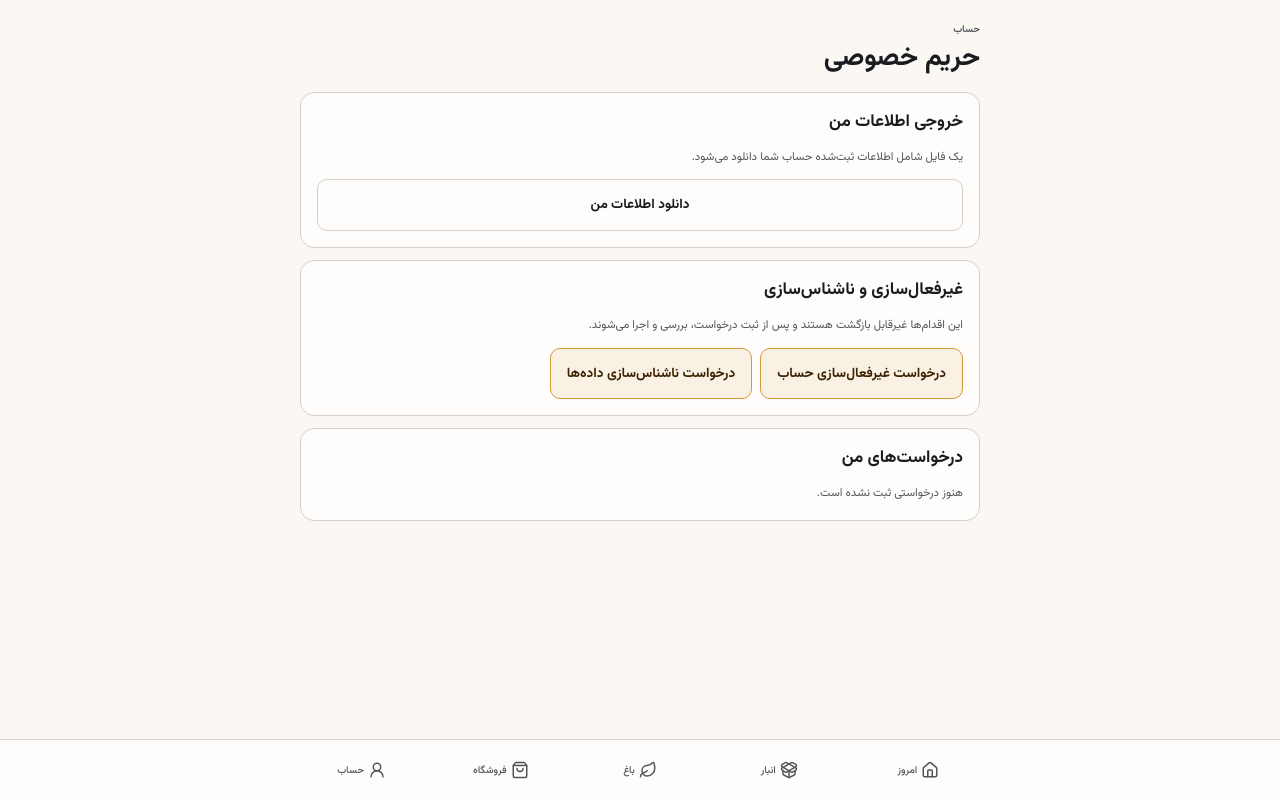
Test case: PrivacyCenter › shows an empty state, then a real backend-persisted request after submitting one
The image size is (1280, 800).
Check: the text "هنوز درخواستی ثبت نشده است." is shown, box [817,484,963,502]
Click the button "درخواست غیرفعال‌سازی حساب" at (862, 373), box [760,348,963,399]
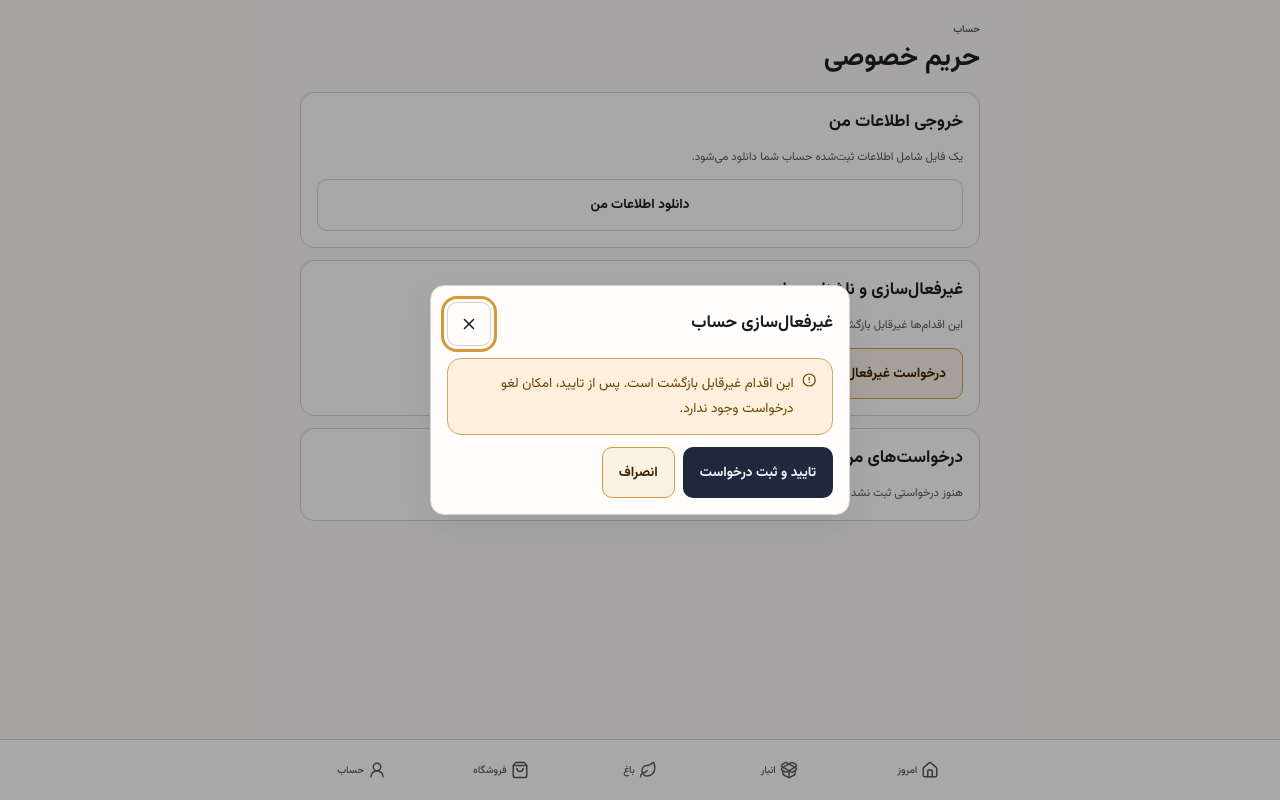
Click the button "تایید و ثبت درخواست" at (758, 473), box [683,447,833,498]
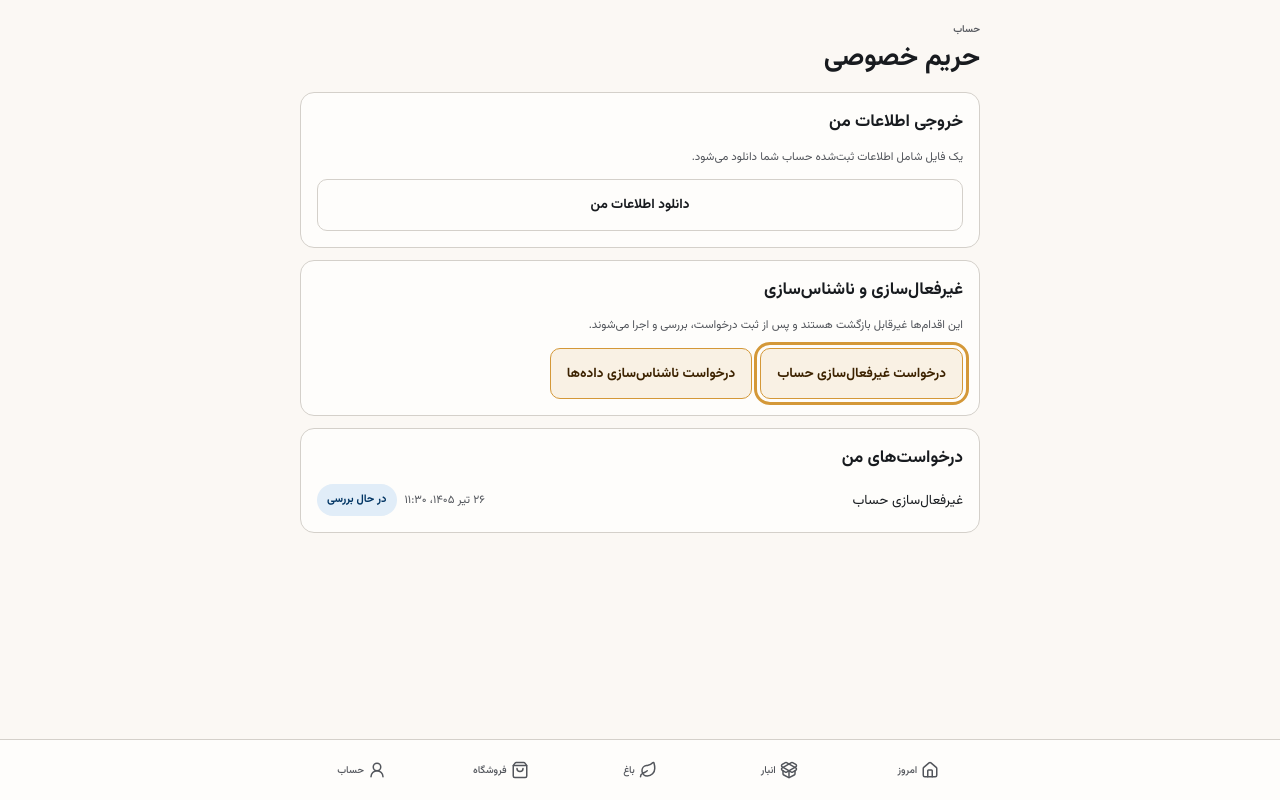
Check: the text "غیرفعال‌سازی حساب" is shown, box [852,488,963,513]
Check: the text "در حال بررسی" is shown, box [317,484,396,516]
